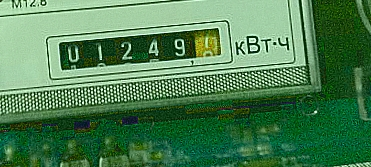0: (65, 42, 80, 63)
1: (91, 40, 105, 62)
2: (116, 38, 134, 62)
4: (145, 36, 160, 57)
7: (199, 28, 214, 49)
9: (171, 35, 186, 58)
screen: (41, 15, 236, 82)
